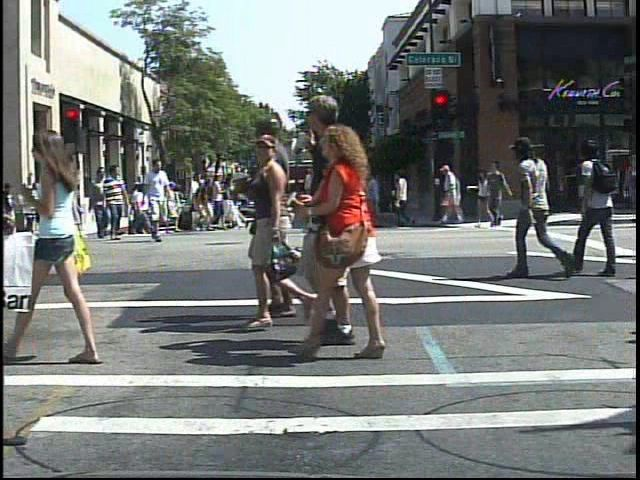person: (275, 90, 400, 346), (10, 118, 112, 371), (301, 118, 401, 358), (511, 125, 576, 287), (570, 130, 632, 283), (140, 160, 174, 243), (100, 161, 130, 240), (42, 166, 71, 245), (441, 161, 465, 225), (91, 182, 111, 221), (33, 182, 34, 243)
